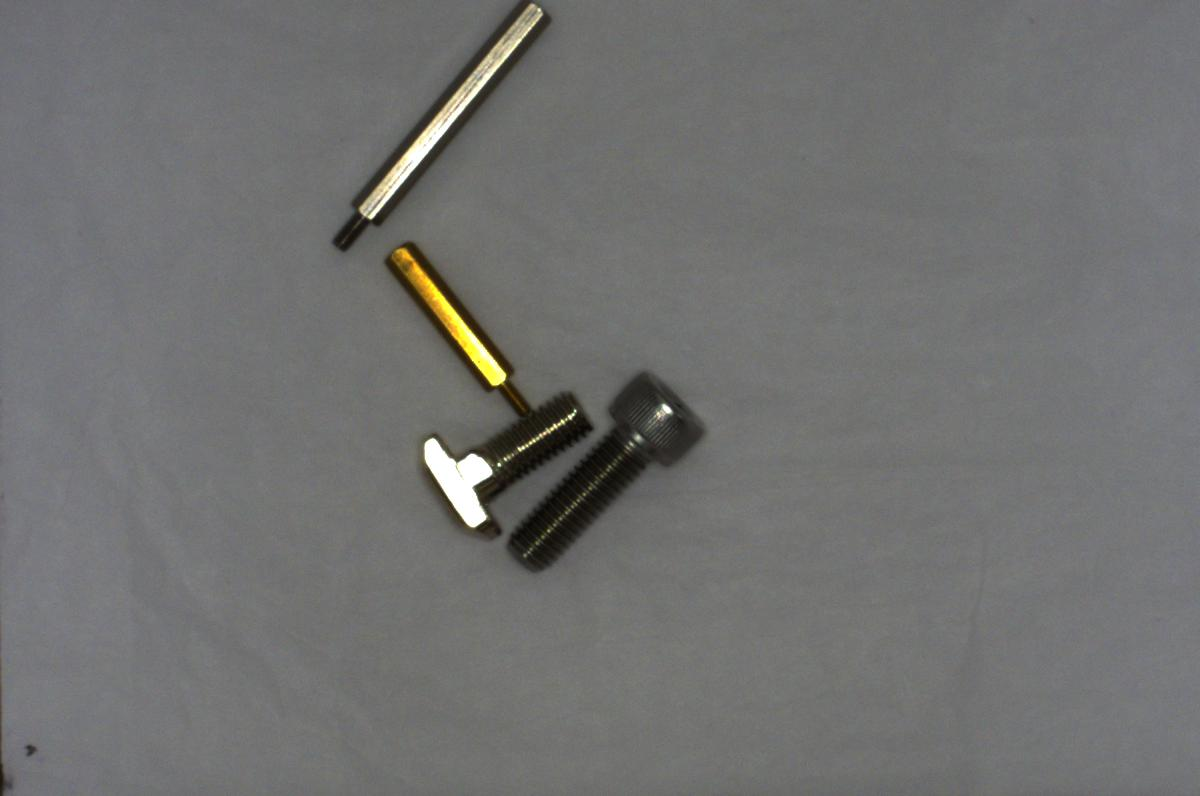Hexagon pillar: (374, 238, 534, 429)
Hexagon screw: (501, 363, 706, 569)
Hexagonal steel column: (305, 2, 571, 253)
T-shaped screw: (412, 385, 598, 548)
